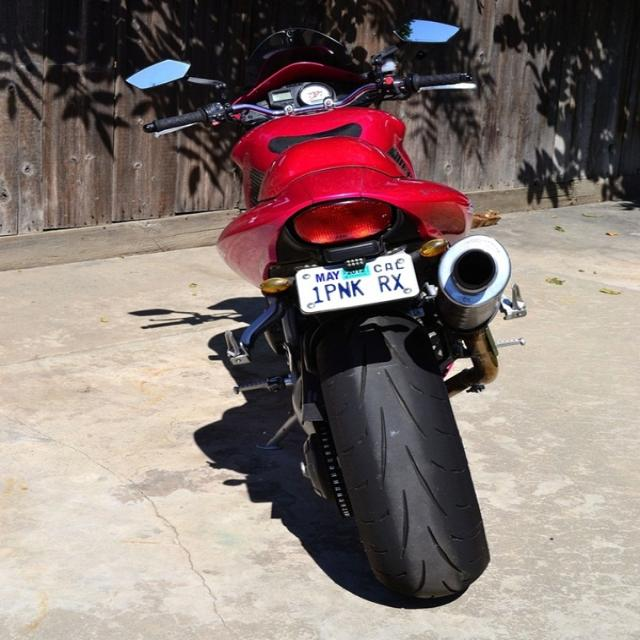number plate: (293, 249, 422, 314)
